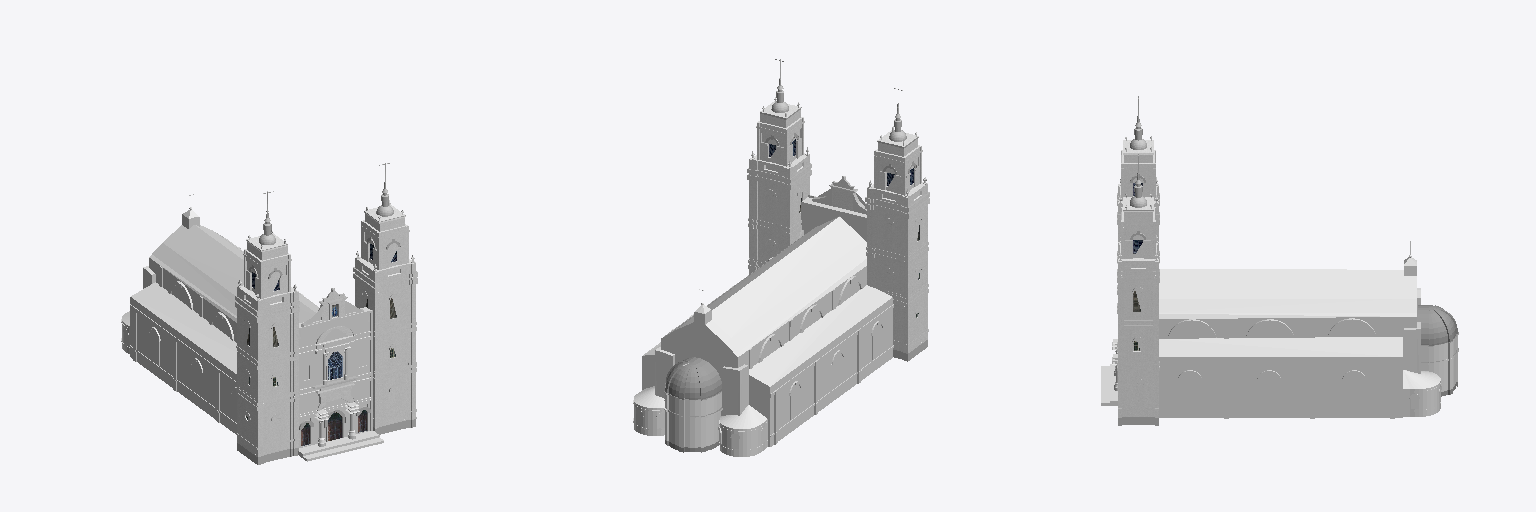
3 renders of one model, left to right at view 1: azimuth 30°, elevation 25°; view 2: azimuth 150°, elevation 25°; view 3: azimuth 270°, elevation 25°, orthographic.
Visible parts, largest first — view 1: Cube, Sphere.002, Sphere, Plane_Plane.001, Cube.001_Cube.002, Circle.002_Circle; view 2: Cube, Sphere.002, Sphere, Cube.001_Cube.002; view 3: Cube, Sphere, Sphere.002.
Part boxes in pixels (x1,y1,x2,y2): Cube: (121, 194, 383, 461); Sphere.002: (235, 191, 299, 464); Sphere: (353, 163, 417, 434); Plane_Plane.001: (312, 376, 357, 403); Cube.001_Cube.002: (319, 288, 347, 320); Circle.002_Circle: (324, 410, 345, 441); Cube: (633, 195, 893, 456); Sphere.002: (865, 88, 929, 361); Sphere: (747, 59, 811, 274); Cube.001_Cube.002: (829, 176, 857, 210); Cube: (1101, 241, 1458, 418); Sphere: (1117, 154, 1159, 425); Sphere.002: (1117, 96, 1159, 313).
Bounding box in the file's own units: 20.9 × 32.42 × 40.24.
17 materials, 8 textured.